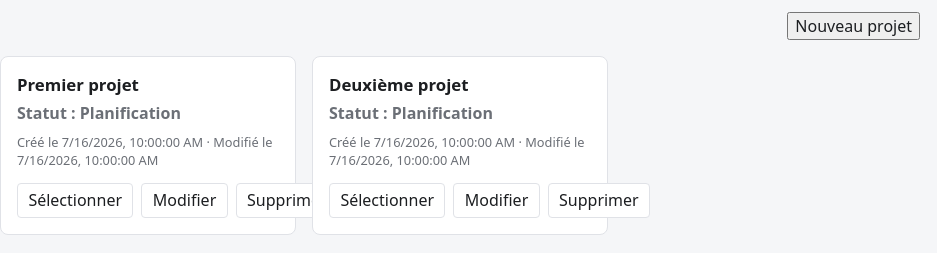
Scenario: ProjectsPage — sélection du projet actif › sélectionne un seul projet actif à la fois
The width and height of the screenshot is (937, 253).
Expected: the heading "Premier projet" is shown, top-left (17, 73), bottom-right (139, 96)
Click the button "Sélectionner" below "Premier projet": (75, 200) top-left (17, 183), bottom-right (133, 218)
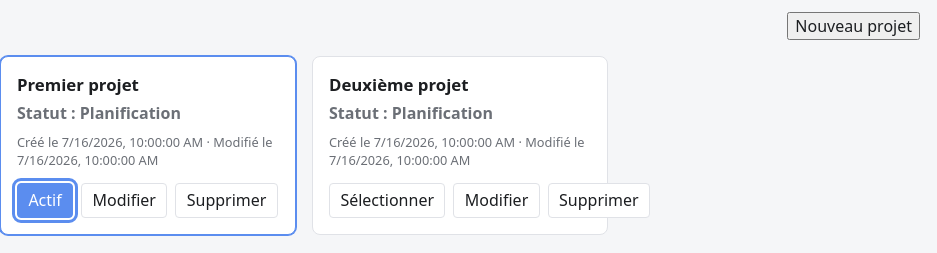
Expected: the button "Actif" is shown, top-left (17, 183), bottom-right (73, 218)
Click the button "Sélectionner": (387, 200) top-left (329, 183), bottom-right (445, 218)
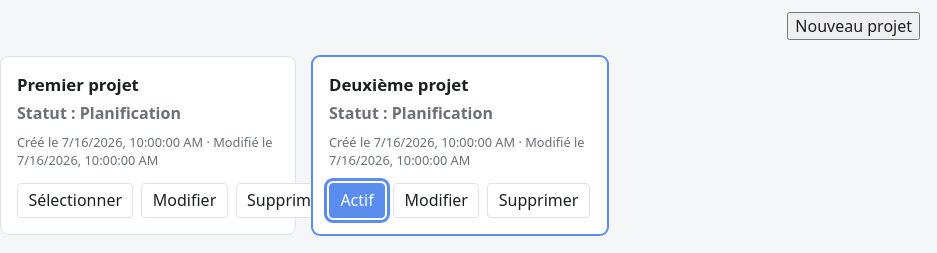
Expected: the button "Actif" is shown, top-left (329, 183), bottom-right (385, 218)
Expected: the button "Sélectionner" is shown, top-left (17, 183), bottom-right (133, 218)
